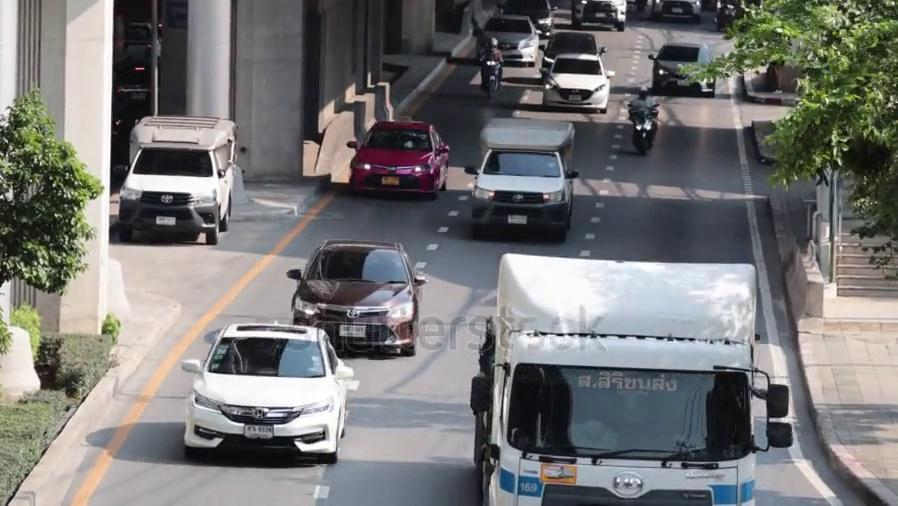rider: (626, 84, 659, 155), (478, 36, 504, 96), (712, 1, 738, 30)
with_helmate: (485, 38, 500, 51), (635, 87, 649, 99)
